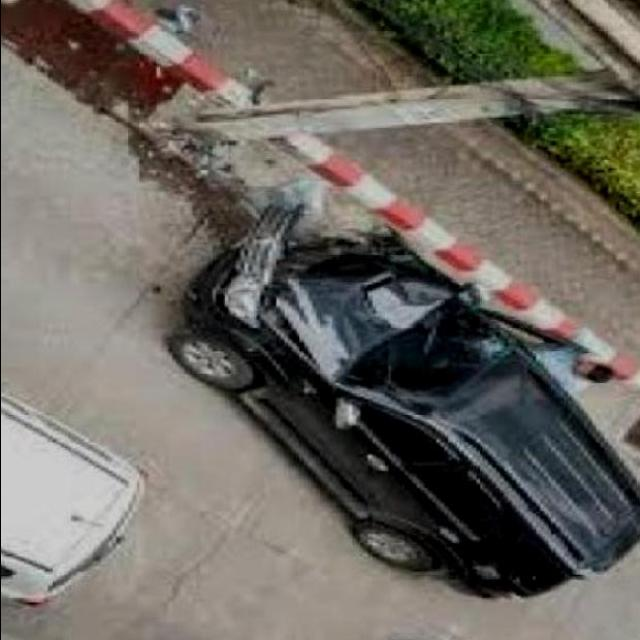accident: (166, 225, 640, 603)
